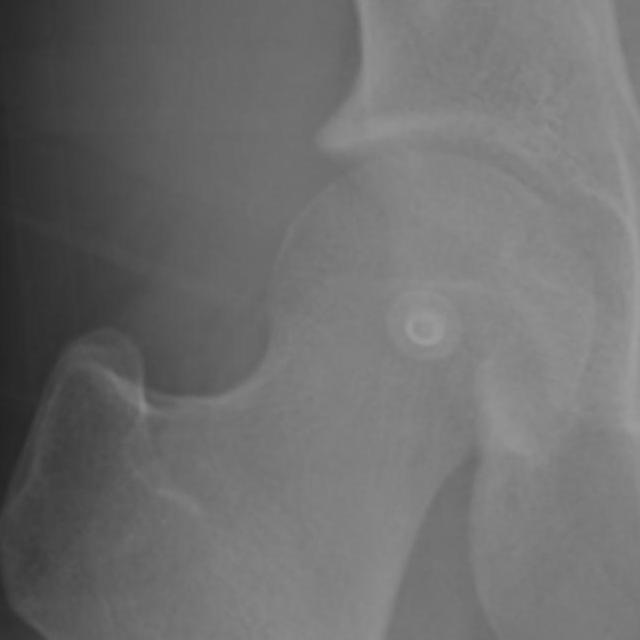Fitted_femural_head: (314, 155, 432, 314)
